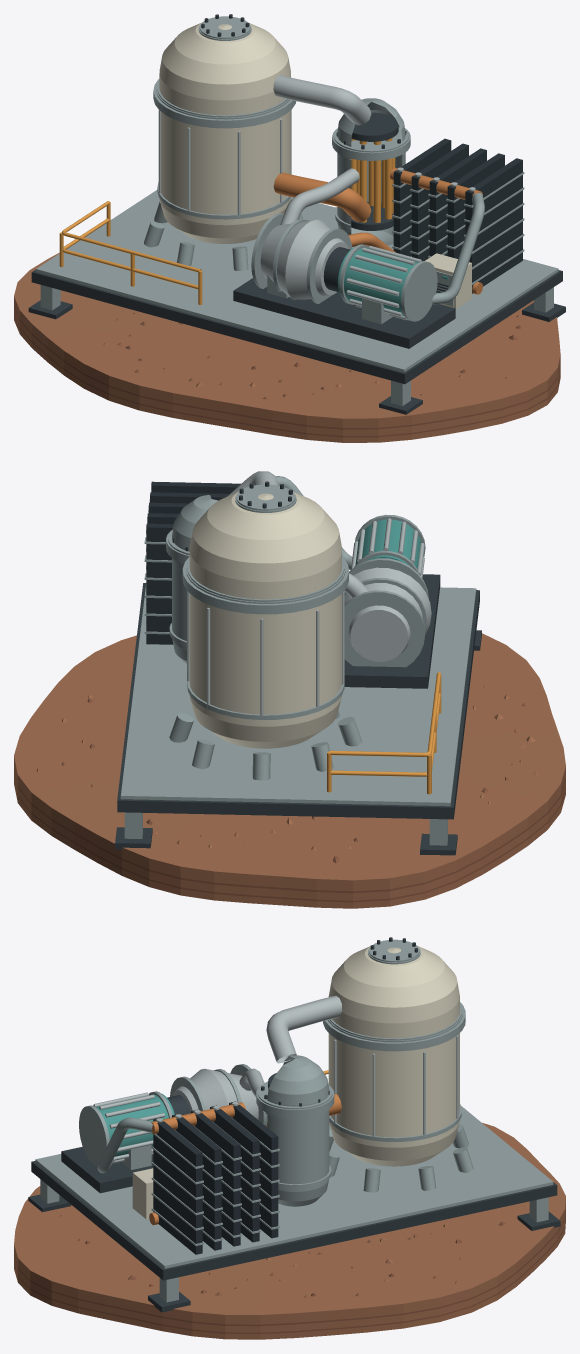
File: p2_brayton.glb
The picture shows the model from 3 angles, top to bottom: view 1: azimuth 30°, elevation 25°; view 2: azimuth 150°, elevation 25°; view 3: azimuth 270°, elevation 25°; orthographic projection. The views are drawn at different scales.
Visible parts, largest first — view 1: Regolith plinth, Service deck, Helium vessel, Brayton power block, Heat exchanger bank, Intermediate exchanger, Primary transfer lines, Service rails and controls; view 2: Regolith plinth, Service deck, Helium vessel, Brayton power block, Heat exchanger bank, Intermediate exchanger, Service rails and controls; view 3: Regolith plinth, Helium vessel, Service deck, Heat exchanger bank, Brayton power block, Intermediate exchanger, Primary transfer lines, Service rails and controls.
Part boxes in pixels (bbox=[...]): Regolith plinth: bbox=[14, 207, 560, 442]; Service deck: bbox=[28, 190, 565, 414]; Helium vessel: bbox=[144, 14, 302, 270]; Brayton power block: bbox=[233, 168, 455, 348]; Heat exchanger bank: bbox=[348, 138, 524, 304]; Intermediate exchanger: bbox=[332, 98, 410, 246]; Primary transfer lines: bbox=[273, 75, 371, 222]; Service rails and controls: bbox=[59, 201, 471, 308]; Regolith plinth: bbox=[14, 633, 565, 908]; Service deck: bbox=[115, 583, 481, 855]; Helium vessel: bbox=[169, 481, 362, 780]; Brayton power block: bbox=[344, 514, 440, 688]; Heat exchanger bank: bbox=[144, 476, 352, 644]; Intermediate exchanger: bbox=[166, 495, 217, 663]; Service rails and controls: bbox=[327, 672, 441, 794]; Regolith plinth: bbox=[14, 1122, 565, 1339]; Helium vessel: bbox=[323, 937, 473, 1192]; Service deck: bbox=[28, 1106, 560, 1312]; Heat exchanger bank: bbox=[97, 1101, 279, 1254]; Brayton power block: bbox=[61, 1064, 267, 1193]; Intermediate exchanger: bbox=[256, 1055, 334, 1206]; Primary transfer lines: bbox=[266, 995, 342, 1126]; Service rails and controls: bbox=[132, 1070, 328, 1219].
Size of the model in its own units: 5.76 by 3.63 by 6.48.
